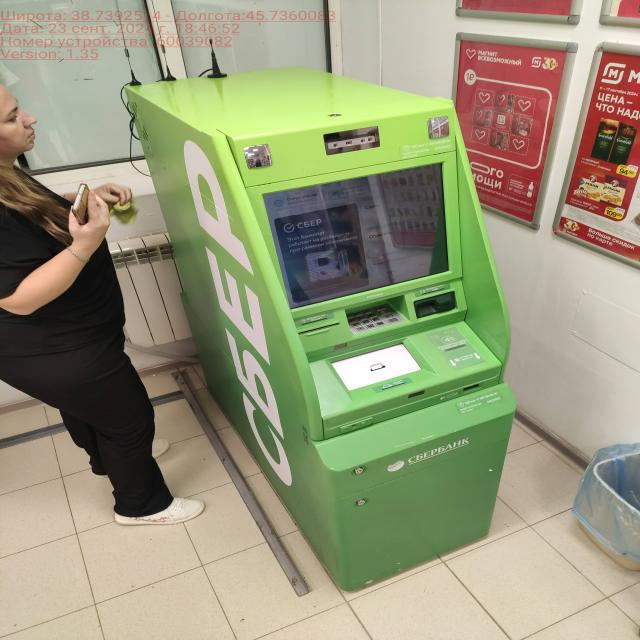bank: (126, 67, 520, 592)
